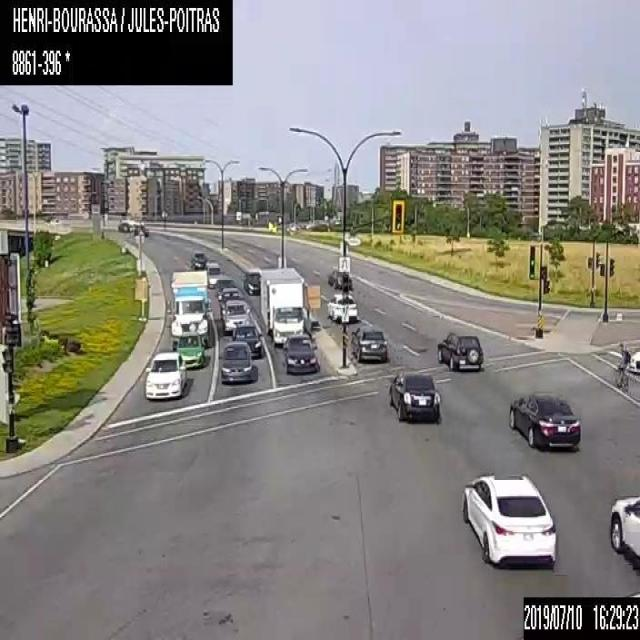cyclist: (613, 340, 630, 392)
vehicle: (462, 472, 556, 567), (507, 391, 580, 449), (259, 266, 307, 344), (167, 270, 210, 348), (387, 369, 441, 420), (609, 494, 639, 568), (144, 351, 186, 397), (434, 331, 482, 369), (218, 341, 253, 382), (283, 336, 317, 374), (350, 327, 386, 360), (232, 322, 262, 358), (177, 332, 204, 368), (220, 299, 250, 331), (326, 294, 356, 322), (218, 287, 242, 313), (327, 266, 351, 289), (204, 261, 222, 286), (214, 277, 235, 298), (242, 270, 260, 294), (191, 251, 206, 268), (629, 350, 639, 374), (117, 219, 132, 231)
